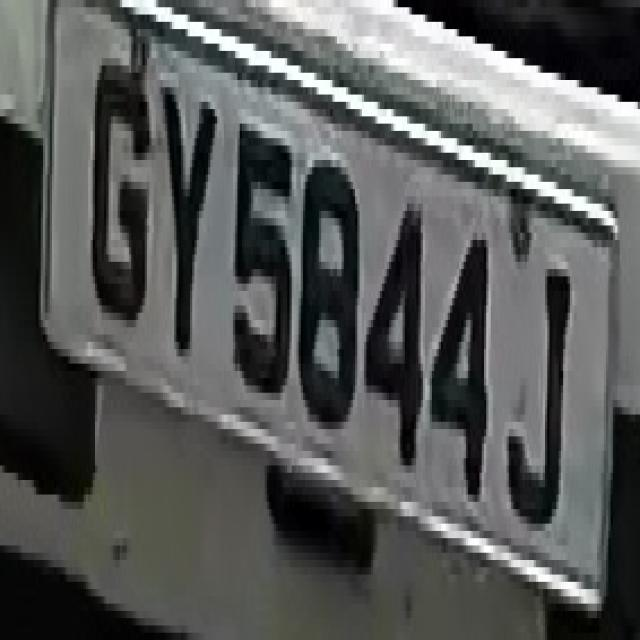4: (358, 160, 434, 473), (432, 196, 497, 531)
5: (231, 80, 294, 422)
8: (294, 116, 360, 458)
G: (86, 29, 151, 356)
J: (497, 211, 570, 545)
Y: (156, 73, 215, 371)
